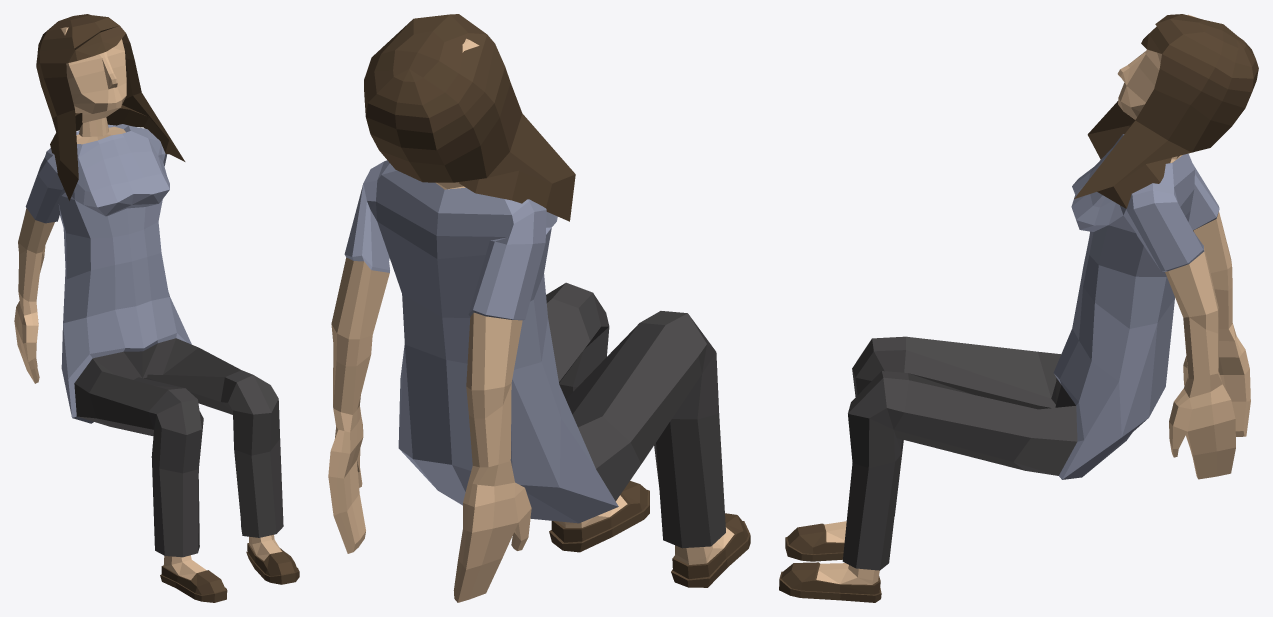
File: Female_Crowd_SittingLeaningBack.glb
The picture shows the model from 3 angles, left to right: view 1: azimuth 30°, elevation 25°; view 2: azimuth 150°, elevation 25°; view 3: azimuth 270°, elevation 25°; orthographic projection. The views are drawn at different scales.
Parts seen in each view (by area): view 1: Female_Crowd_SittingLeaningBack; view 2: Female_Crowd_SittingLeaningBack; view 3: Female_Crowd_SittingLeaningBack.
Boxes of the visible parts, x1,y1,x2,y2 form: Female_Crowd_SittingLeaningBack: (14, 14, 299, 602); Female_Crowd_SittingLeaningBack: (328, 14, 750, 602); Female_Crowd_SittingLeaningBack: (779, 14, 1258, 602).
Bounding box in the file's own units: 0.3931 × 1.25 × 0.9802.
